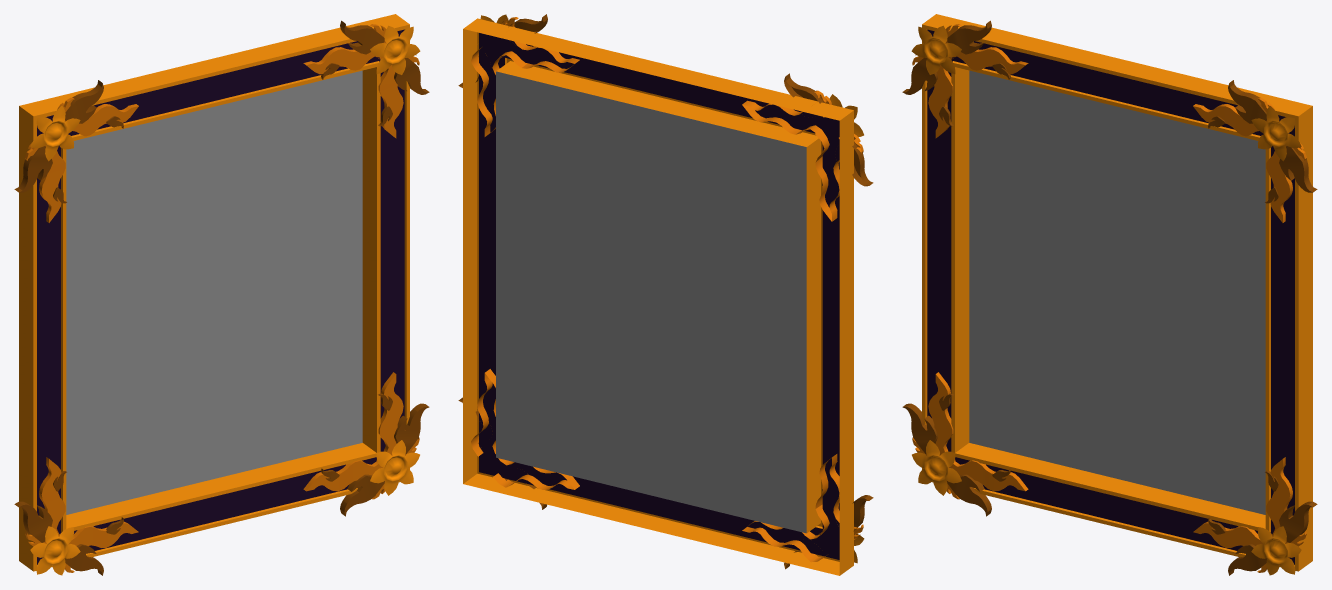
The model's file is Prefab_BG_ frame.FBX.
3 views of the same model, side by side, from view 1: azimuth 30°, elevation 25°; view 2: azimuth 150°, elevation 25°; view 3: azimuth 330°, elevation 25° (orthographic).
Visible parts, largest first — view 1: Prefab_BG_ frame001; view 2: Prefab_BG_ frame001; view 3: Prefab_BG_ frame001.
Boxes of the visible parts, x1,y1,x2,y2 form: Prefab_BG_ frame001: (14,14,429,575); Prefab_BG_ frame001: (458,14,873,575); Prefab_BG_ frame001: (902,14,1317,575).
Bounding box in the file's own units: 321 × 368 × 26.54.
